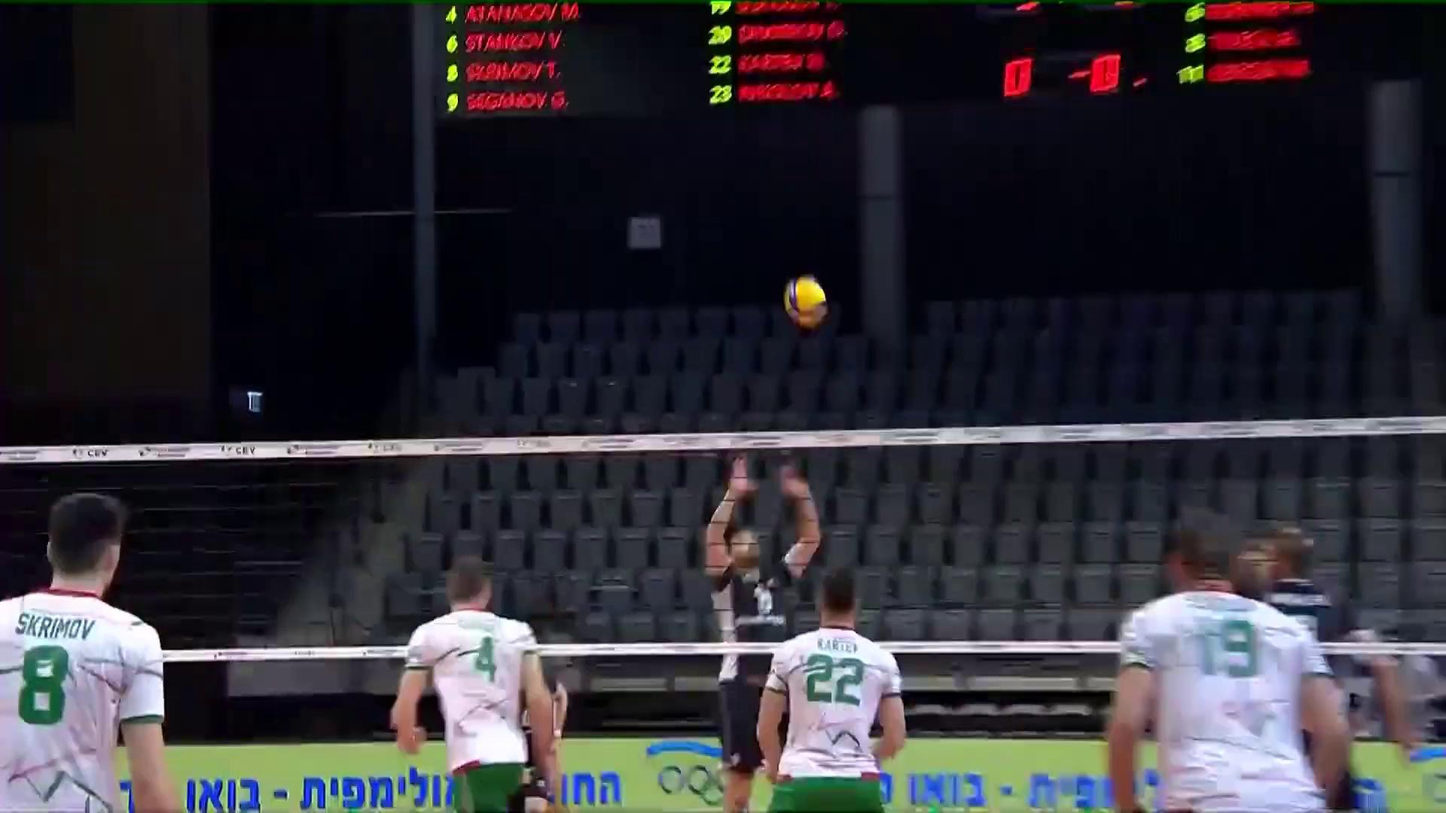ball: (781, 273, 833, 331)
